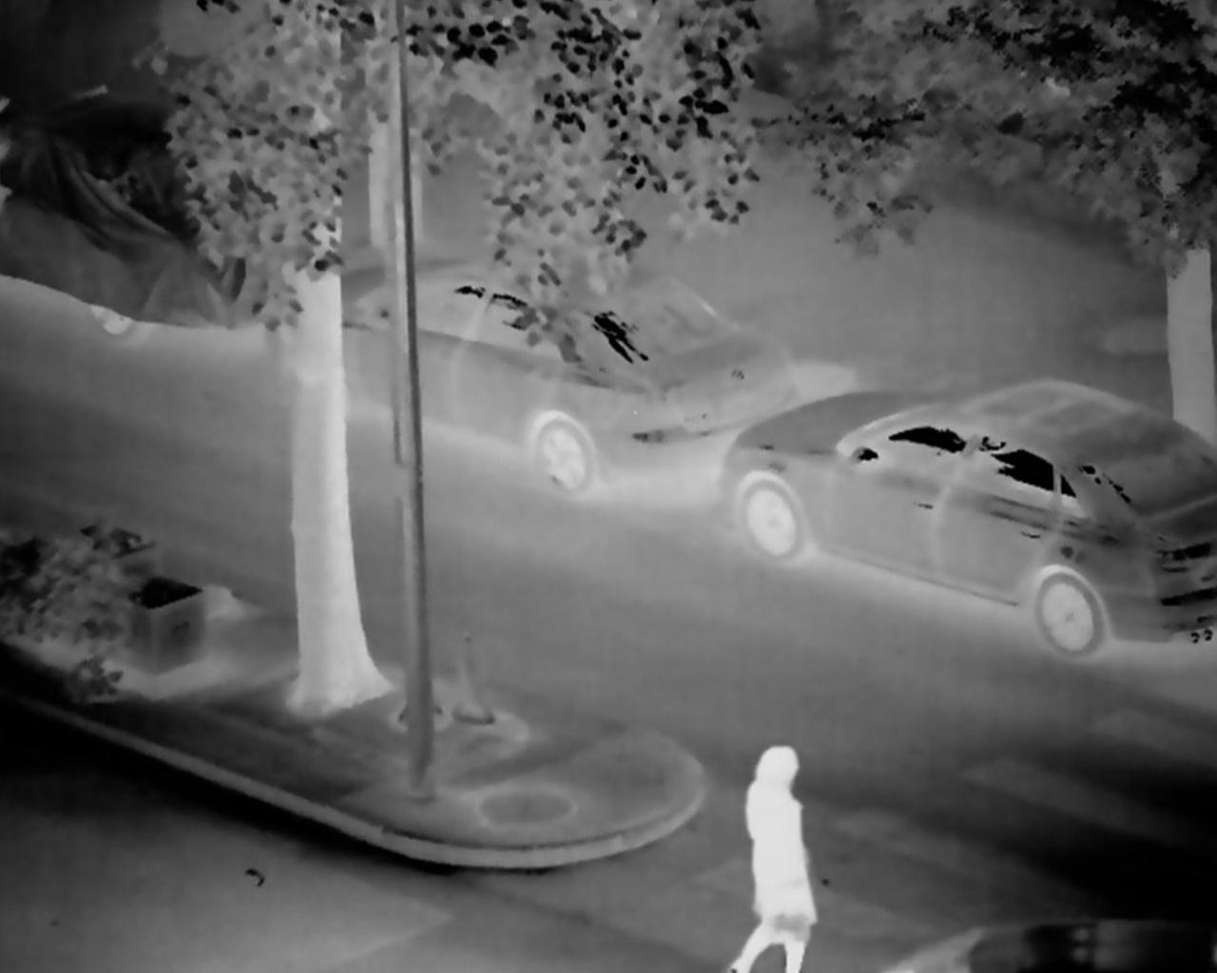person: (729, 740, 821, 973)
